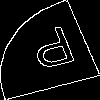P: (25, 25, 83, 79)
